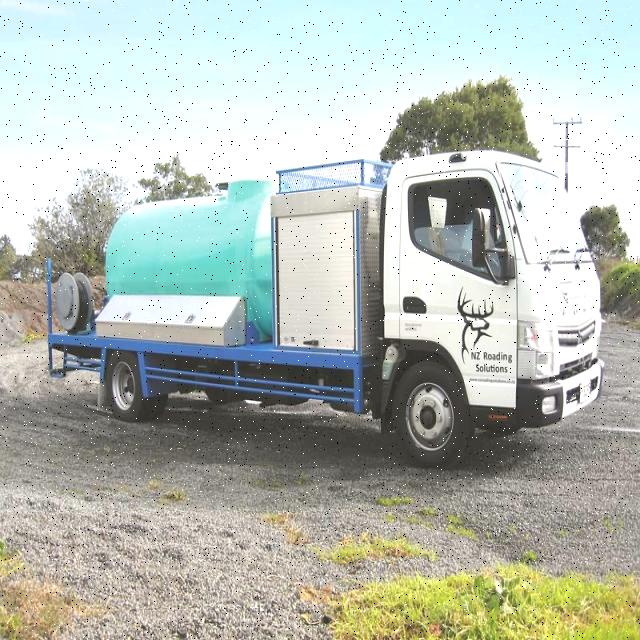truck: (43, 146, 602, 462)
